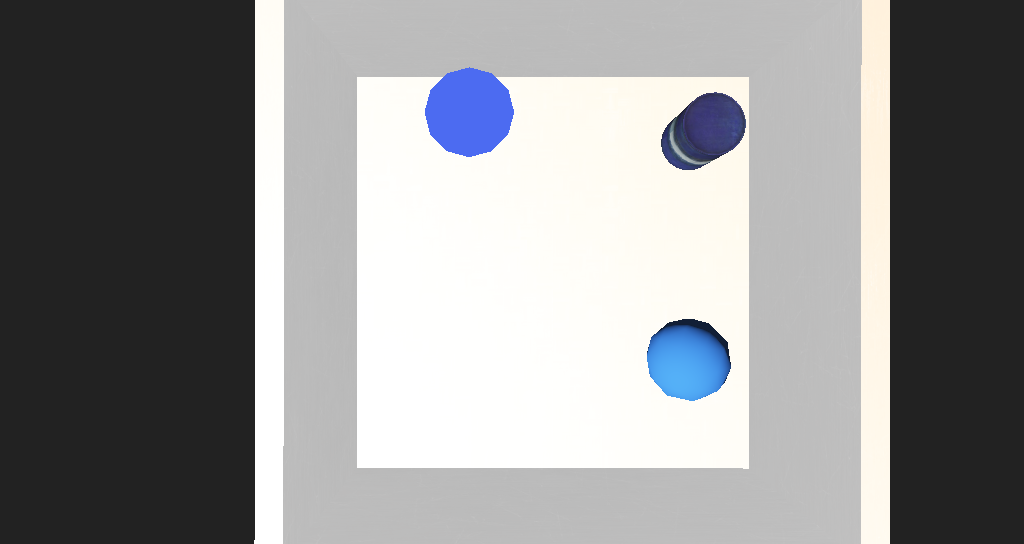cone: (589, 172, 650, 210)
cylinder: (414, 162, 475, 210)
sphere: (573, 291, 640, 339)
